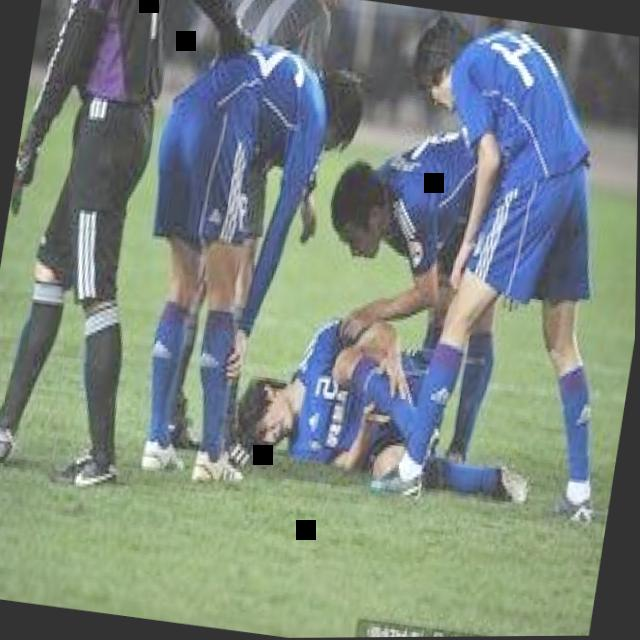Fall-Detected: (222, 269, 556, 513)
